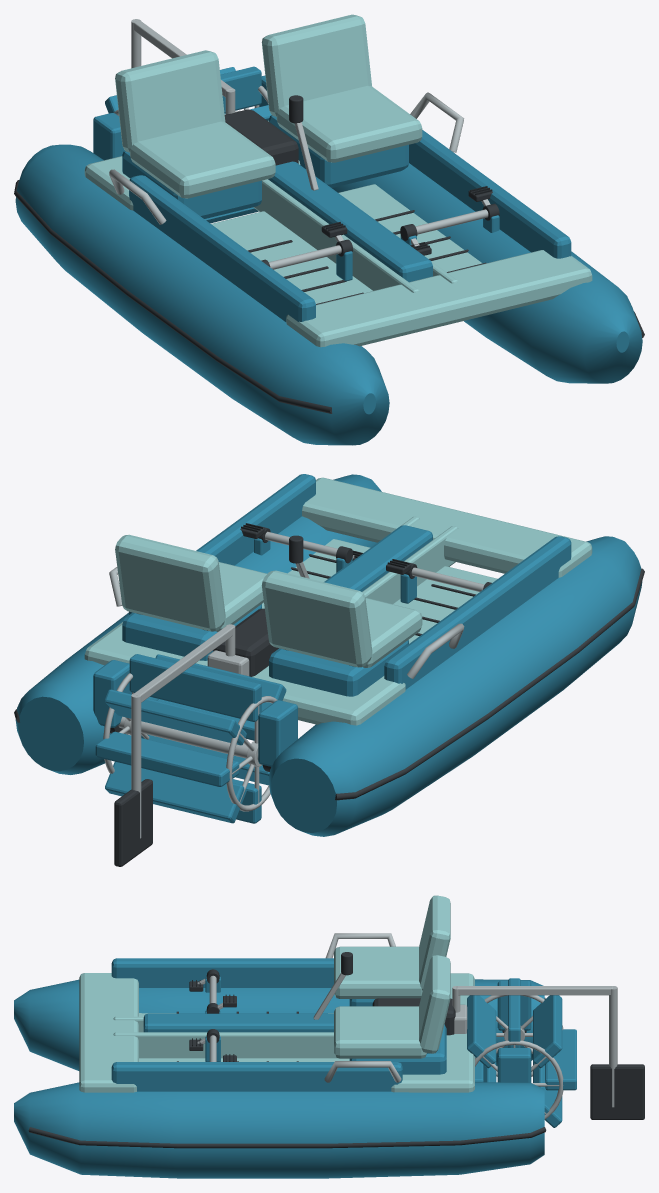
Rendered from city-two-seat-pedal-boat.glb.
3 renders of one model, top to bottom at view 1: azimuth 30°, elevation 25°; view 2: azimuth 150°, elevation 25°; view 3: azimuth 270°, elevation 25°, orthographic. The views are drawn at different scales.
Visible parts, largest first — view 1: Assembly | Pedal craft blue molding, Assembly | Pedal seat light molding, Assembly | Graphite mechanism, Assembly | Brushed marine hardware; view 2: Assembly | Pedal craft blue molding, Assembly | Pedal seat light molding, Assembly | Brushed marine hardware, Assembly | Graphite mechanism; view 3: Assembly | Pedal craft blue molding, Assembly | Pedal seat light molding, Assembly | Graphite mechanism, Assembly | Brushed marine hardware.
Part boxes in pixels (bbox=[...]): Assembly | Pedal craft blue molding: bbox=[15, 66, 642, 445]; Assembly | Pedal seat light molding: bbox=[84, 14, 592, 347]; Assembly | Graphite mechanism: bbox=[14, 95, 644, 413]; Assembly | Brushed marine hardware: bbox=[109, 19, 490, 269]; Assembly | Pedal craft blue molding: bbox=[15, 474, 642, 836]; Assembly | Pedal seat light molding: bbox=[84, 477, 592, 725]; Assembly | Brushed marine hardware: bbox=[103, 531, 484, 838]; Assembly | Graphite mechanism: bbox=[14, 525, 644, 866]; Assembly | Pedal craft blue molding: bbox=[14, 958, 576, 1178]; Assembly | Pedal seat light molding: bbox=[79, 895, 474, 1092]; Assembly | Graphite mechanism: bbox=[28, 952, 644, 1148]; Assembly | Brushed marine hardware: bbox=[197, 933, 617, 1119].
Bounding box in the file's own units: 1.99 × 1.12 × 3.58.
